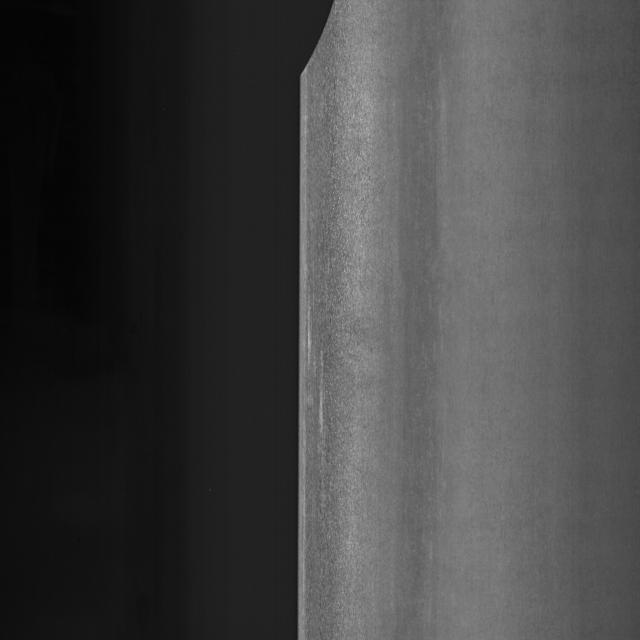silk_spot: (285, 1, 351, 85)
